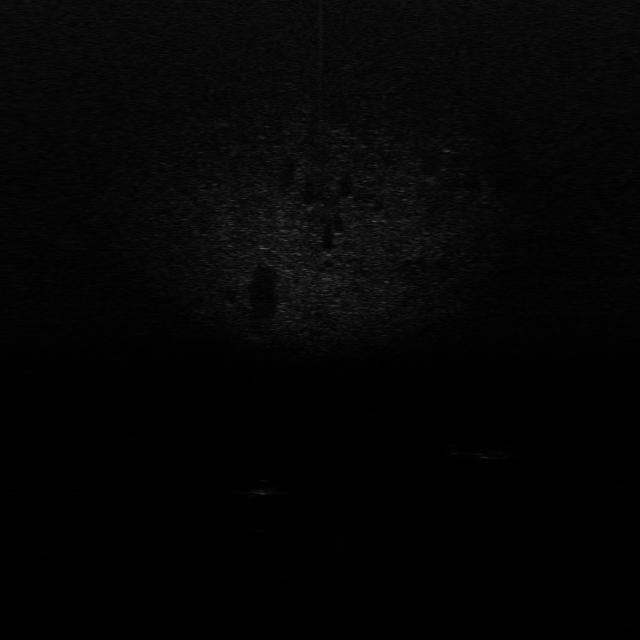ball: (248, 472, 283, 498)
human body: (446, 438, 528, 466)
